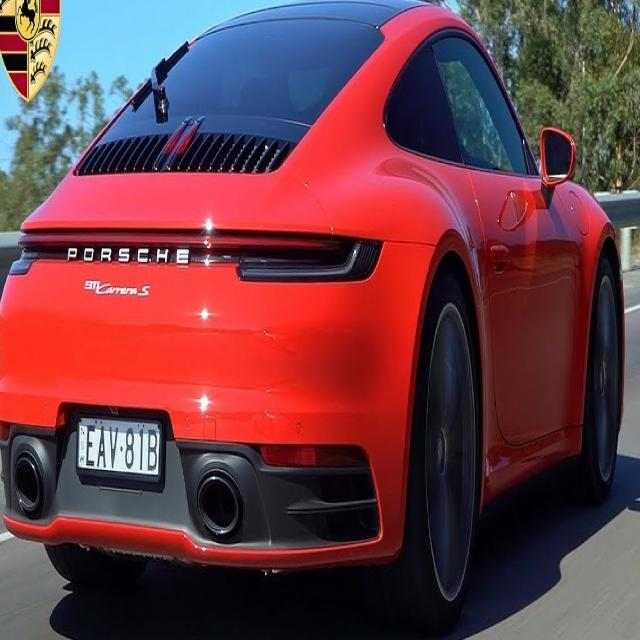red: (2, 4, 640, 574)
